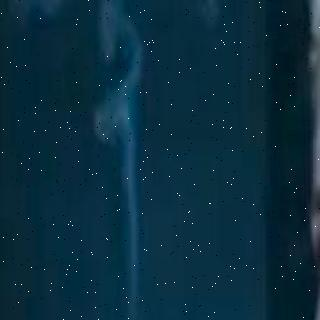smoke: (98, 10, 158, 320)
